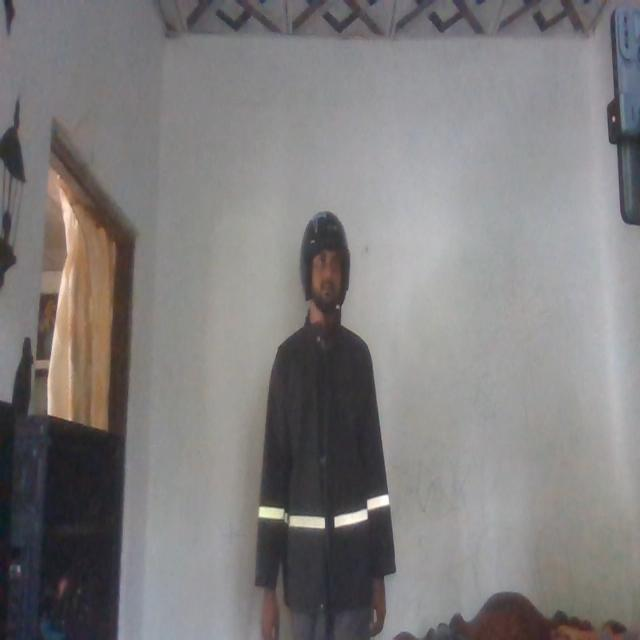Helmet_Wearer: (291, 206, 351, 326)
Jacket_Wearer: (259, 323, 395, 613)
Person: (249, 210, 393, 640)
